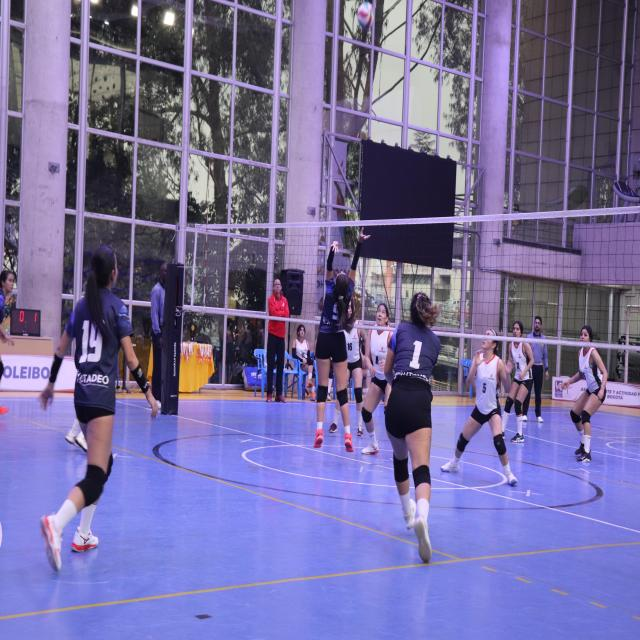volleyball: (357, 2, 375, 30)
